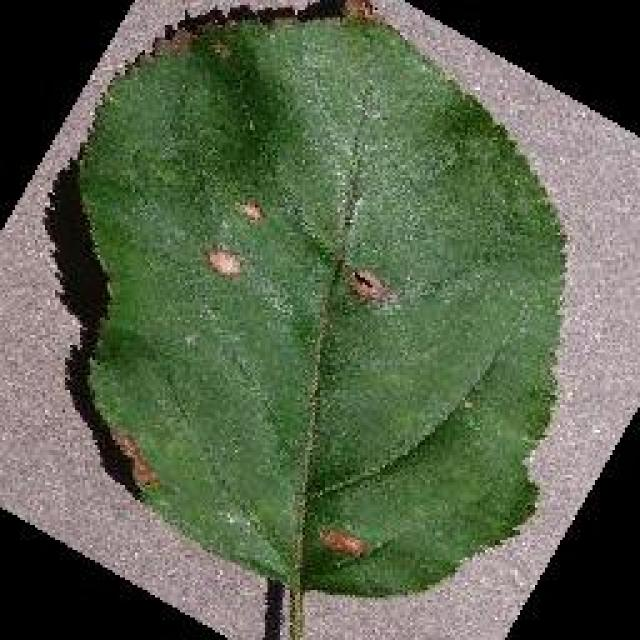Black_rot: (72, 8, 570, 602)
